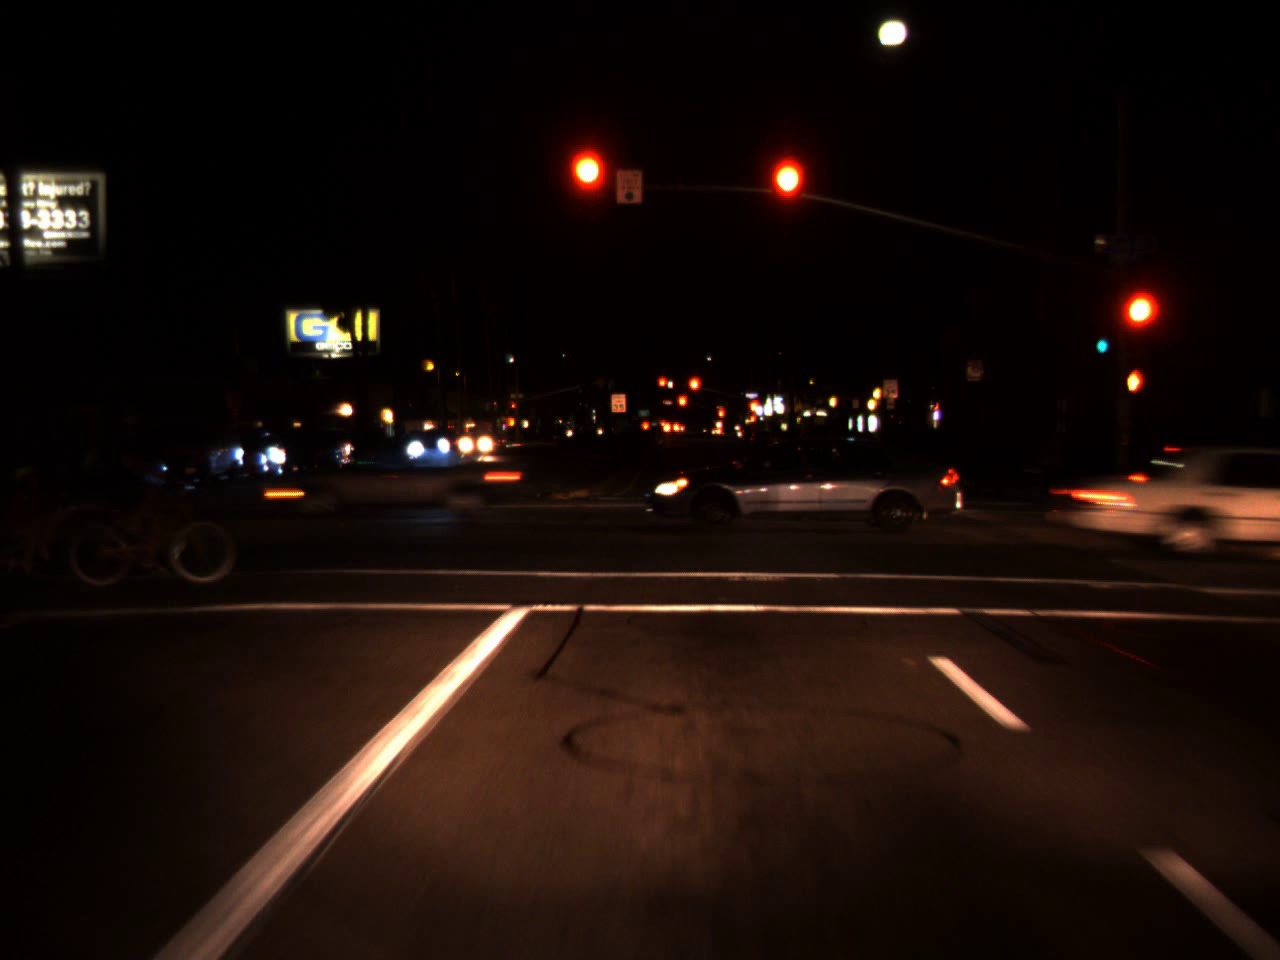stop: (1120, 288, 1159, 366), (768, 161, 804, 236), (568, 154, 607, 218), (686, 373, 703, 408), (677, 393, 689, 419), (656, 376, 668, 400), (746, 399, 759, 419), (717, 408, 724, 426), (511, 403, 517, 413)
